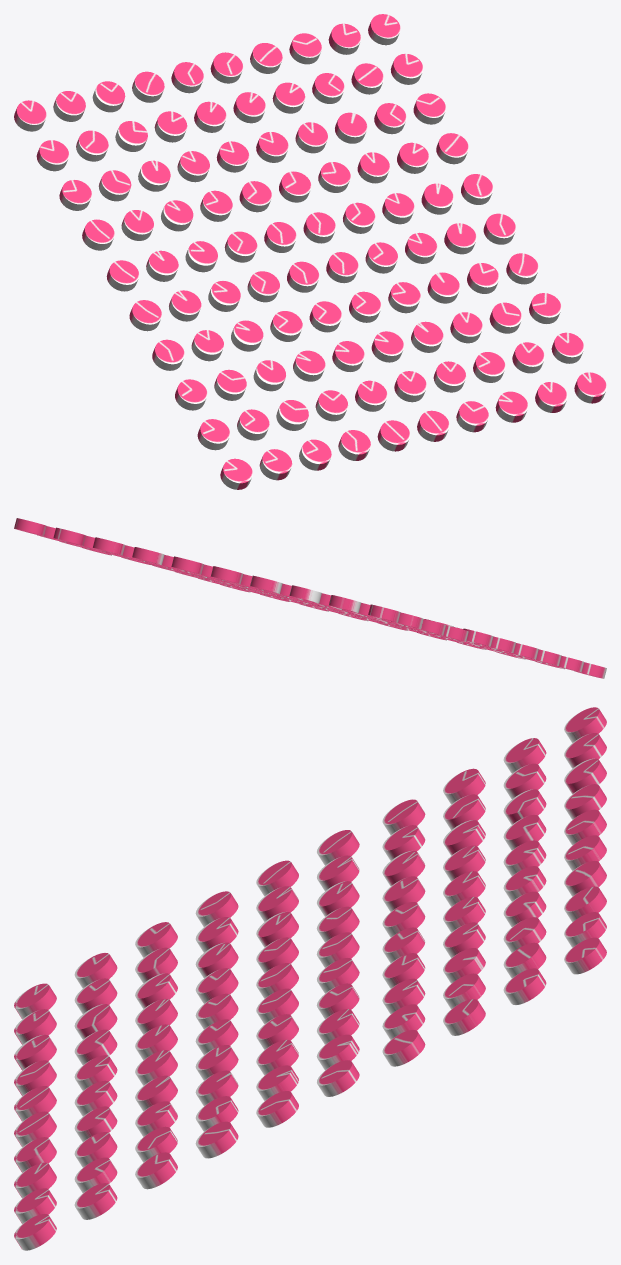
3 renders of one model, top to bottom at view 1: azimuth 30°, elevation 25°; view 2: azimuth 150°, elevation 25°; view 3: azimuth 270°, elevation 25°, orthographic. The views are drawn at different scales.
Visible parts, largest first — view 1: SketchUp (×100); view 2: SketchUp (×19); view 3: SketchUp (×100).
Part boxes in pixels (x1=…): SketchUp (×100): x1=14, y1=14, x2=606, y2=489; SketchUp (×19): x1=14, y1=518, x2=606, y2=678; SketchUp (×100): x1=14, y1=707, x2=606, y2=1250.
Size of the model in its own units: 121 by 122 by 69.77.
1 material, 1 textured.
